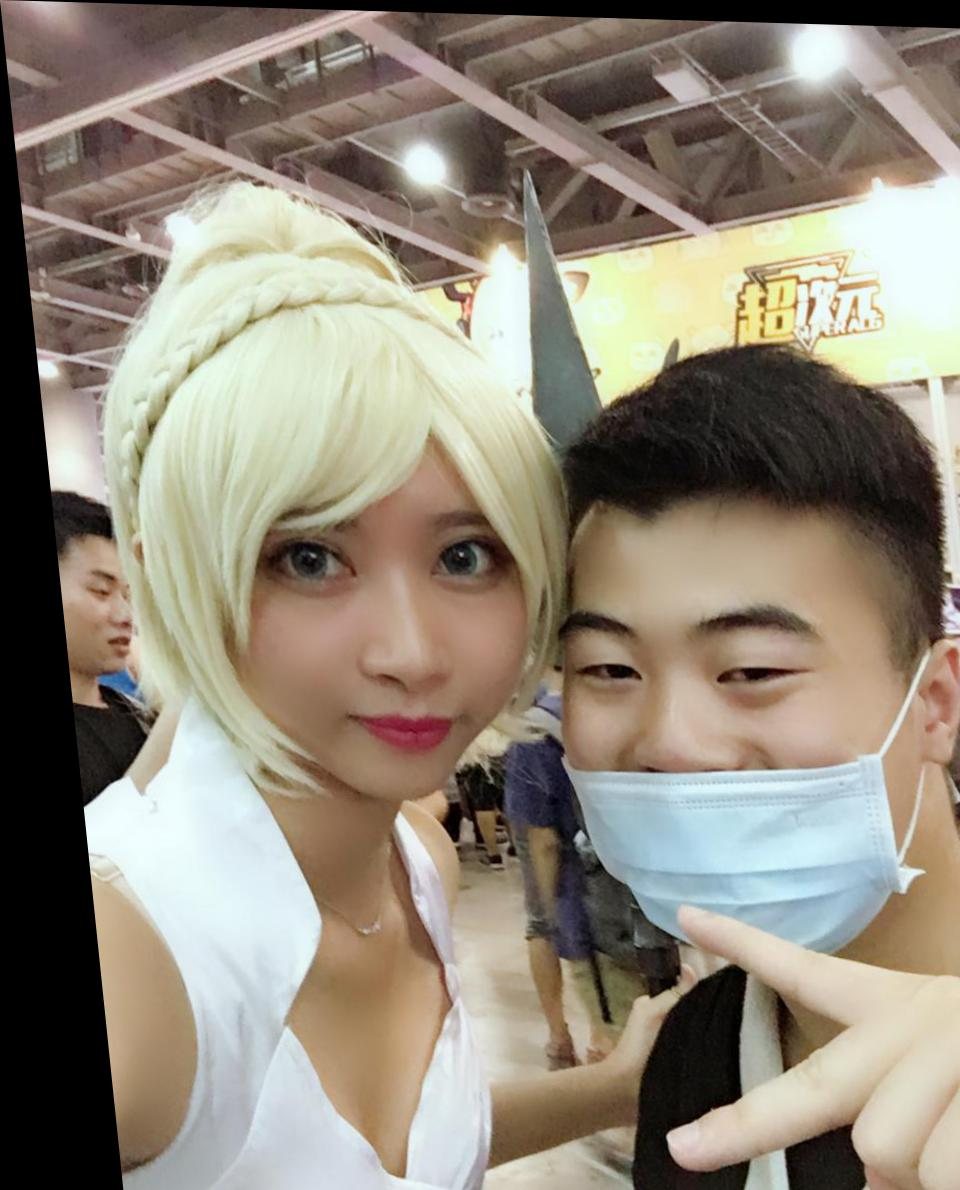NONE: (201, 493, 523, 782), (47, 564, 133, 678)
WRONG: (521, 537, 924, 970)
